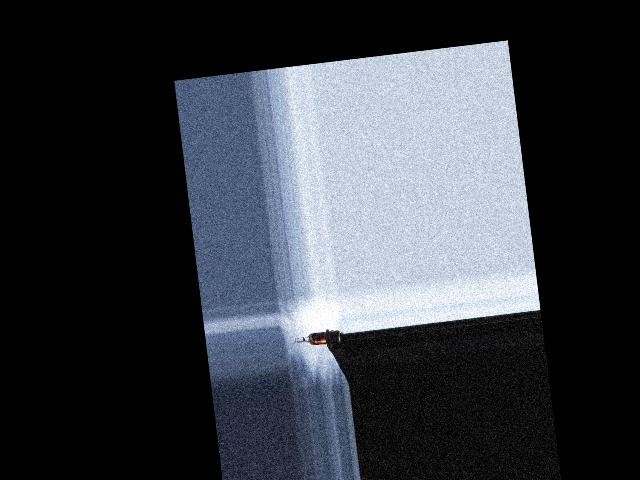beer: (294, 330, 340, 348)
